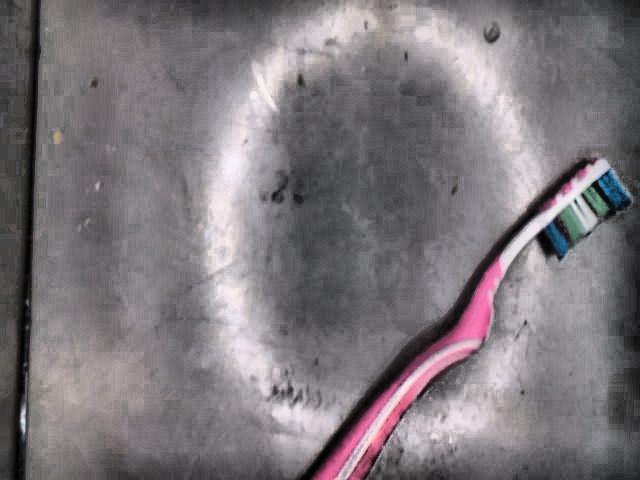Plastic: (307, 156, 635, 480)
